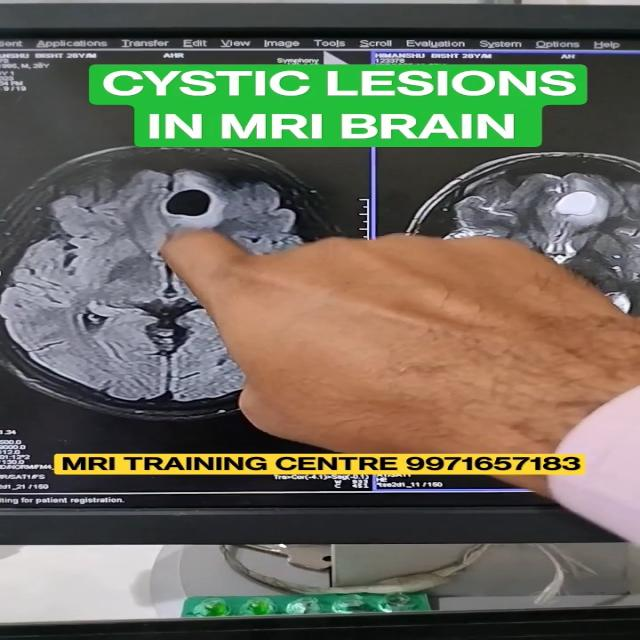tumor: (152, 162, 232, 249)
